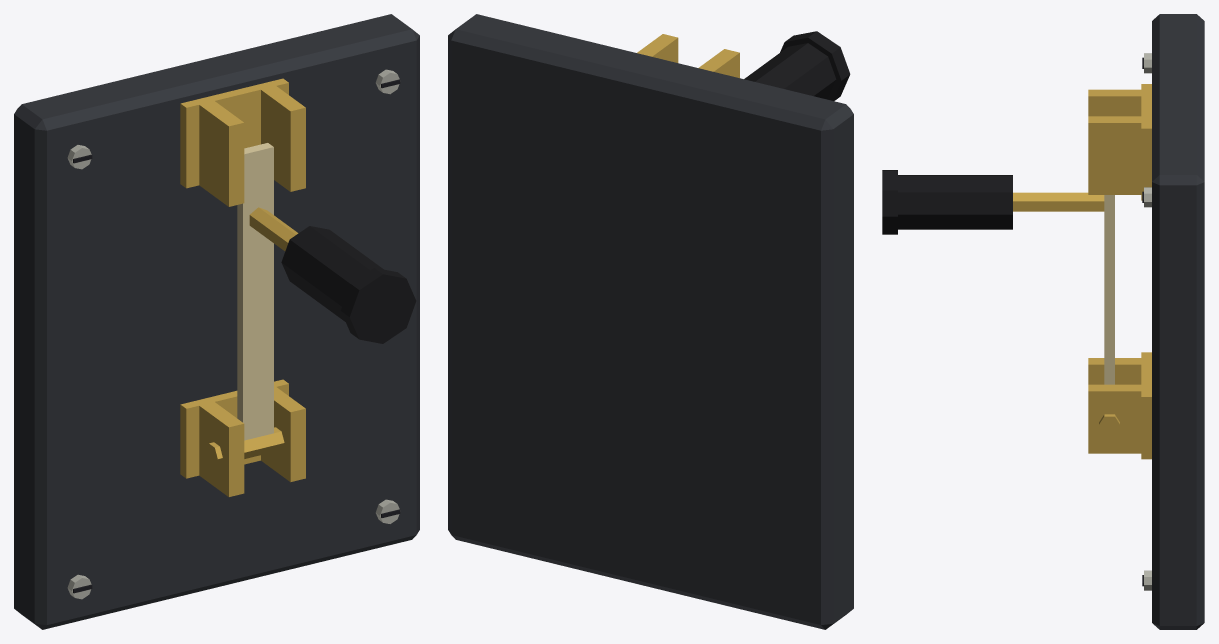
File: switch.throw-switch.glb
The picture shows the model from 3 angles, left to right: view 1: azimuth 30°, elevation 25°; view 2: azimuth 150°, elevation 25°; view 3: azimuth 270°, elevation 25°; orthographic projection. The views are drawn at different scales.
Parts seen in each view (by area): view 1: slate, blade-bar, handle-grip, jaw-1, handle-knob, jaw1, jaw-base, hinge-1, hinge1, hinge-base, blade-pin, handle-stem; view 2: slate, handle-grip, handle-knob, jaw1, jaw-1; view 3: slate, handle-grip, jaw1, hinge1, blade-bar, handle-stem, jaw-1, hinge-1, jaw-base, hinge-base, handle-knob.
Part boxes in pixels (box(x1,y1,x2,y2)): slate: box(14, 14, 419, 629); blade-bar: box(237, 143, 273, 440); handle-grip: box(281, 226, 383, 321); jaw-1: box(193, 96, 244, 206); handle-knob: box(341, 267, 416, 343); jaw1: box(261, 81, 305, 191); jaw-base: box(180, 78, 288, 188); hinge-1: box(193, 400, 244, 496); hinge1: box(261, 385, 305, 482); hinge-base: box(180, 379, 288, 478); blade-pin: box(206, 427, 284, 466); handle-stem: box(249, 207, 298, 251); slate: box(448, 14, 853, 629); handle-grip: box(744, 43, 836, 99); handle-knob: box(780, 31, 850, 100); jaw1: box(637, 34, 678, 62); jaw-1: box(698, 49, 739, 78); slate: box(1152, 14, 1204, 629); handle-grip: box(898, 175, 1012, 229); jaw1: box(1088, 116, 1151, 194); hinge1: box(1088, 384, 1151, 453); blade-bar: box(1104, 195, 1114, 384); handle-stem: box(1013, 192, 1104, 211); jaw-1: box(1088, 89, 1151, 116); hinge-1: box(1088, 358, 1151, 384); jaw-base: box(1141, 84, 1151, 200); hinge-base: box(1141, 352, 1151, 459); handle-knob: box(882, 170, 897, 234).
Size of the model in its own units: 0.15 by 0.19 by 0.122.
